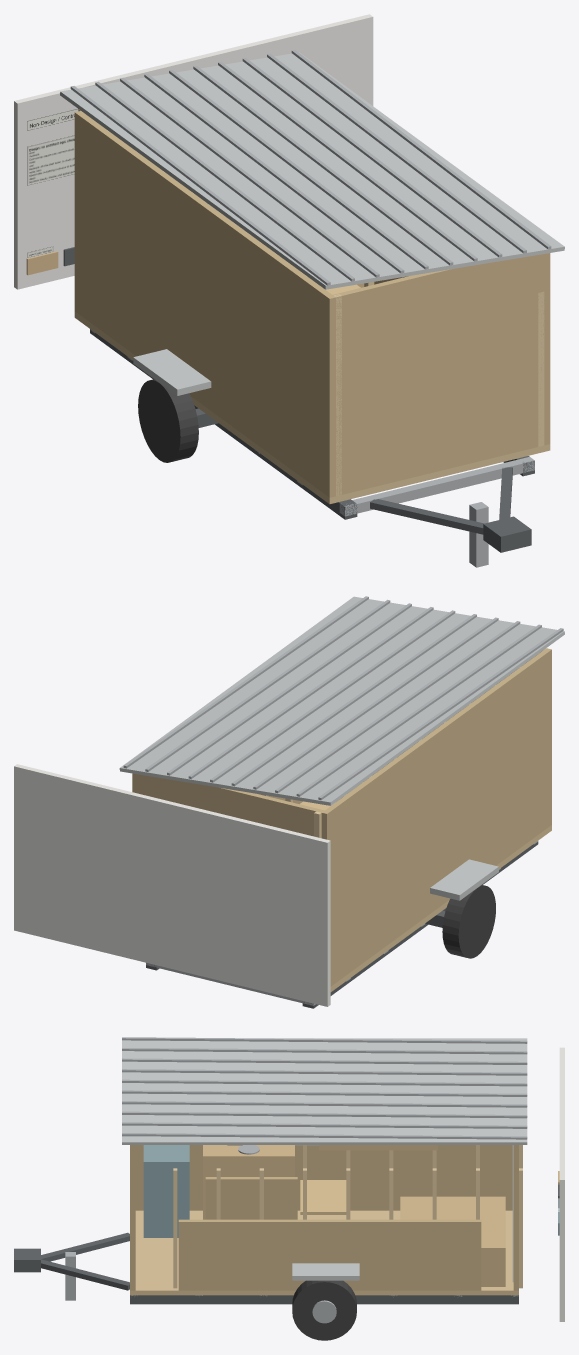
File: contractor-reality-trailer.dae
The picture shows the model from 3 angles, top to bottom: view 1: azimuth 30°, elevation 25°; view 2: azimuth 150°, elevation 25°; view 3: azimuth 270°, elevation 25°; orthographic projection. The views are drawn at different scales.
Parts seen in each view (by area): view 1: left plywood sheathing wall, single corrugated metal shed roof, front plywood wall, Non-Design / Contractor Reality label board backing, left trailer wheel.004, 6x12 plywood trailer deck, steel crossmember y=0.004, left simple metal fender.004, Non-Design / Contractor Reality design logic label, corrugation rib x=22, corrugation rib x=70, corrugation rib x=54 (+14 smaller); view 2: Non-Design / Contractor Reality label board backing, left plywood sheathing wall, single corrugated metal shed roof, rear plywood wall with cheap door, left trailer wheel.004, left simple metal fender.004, corrugation rib x=38, corrugation rib x=-2, corrugation rib x=70, corrugation rib x=46, corrugation rib x=30, corrugation rib x=6 (+8 smaller); view 3: single corrugated metal shed roof, cutaway right framed half wall, left plywood sheathing wall, 6x12 plywood trailer deck, plywood bed platform, utility cabinet with water jug and battery, replaceable repair panel leaning inside, right steel frame rail.004, right trailer wheel.004, simple kitchenette cabinet, Non-Design / Contractor Reality label board backing, corrugation rib x=70 (+21 smaller).
Part boxes in pixels (x1,y1,x2,y2): left plywood sheathing wall: (74,111,335,496); single corrugated metal shed roof: (60,52,564,289); front plywood wall: (326,253,550,497); Non-Design / Contractor Reality label board backing: (14,14,373,289); left trailer wheel.004: (138,379,198,462); 6x12 plywood trailer deck: (74,311,550,504); steel crossmember y=0.004: (339,457,534,516); left simple metal fender.004: (133,349,211,395); Non-Design / Contractor Reality design logic label: (27,135,74,185); corrugation rib x=22: (144,73,404,273); corrugation rib x=70: (291,49,551,249); corrugation rib x=54: (242,57,502,257); Non-Design / Contractor Reality label board backing: (14,764,330,1006); left plywood sheathing wall: (321,648,551,986); single corrugated metal shed roof: (119,596,564,805); rear plywood wall with cheap door: (132,773,330,840); left trailer wheel.004: (442,885,495,958); left simple metal fender.004: (430,859,498,900); corrugation rib x=38: (210,610,455,782); corrugation rib x=-2: (318,628,563,800); corrugation rib x=70: (123,596,368,768); corrugation rib x=46: (188,607,433,778); corrugation rib x=30: (231,614,476,786); corrugation rib x=6: (296,624,541,796); single corrugated metal shed roof: (122,1038,527,1144); cutaway right framed half wall: (178,1219,481,1290); left plywood sheathing wall: (135,1145,512,1210); 6x12 plywood trailer deck: (130,1210,518,1295); plywood bed platform: (400,1196,505,1286); utility cabinet with water jug and battery: (143,1145,189,1237); replaceable repair panel leaning inside: (205,1177,297,1219); right steel frame rail.004: (130,1295,518,1304); right trailer wheel.004: (292,1280,356,1340); simple kitchenette cabinet: (203,1145,294,1219); Non-Design / Contractor Reality label board backing: (559,1047,564,1321); corrugation rib x=70: (122,1133,527,1139).
Bounding box in the file's own units: 3.07 × 5.18 × 2.25.
25 materials, 9 textured.
